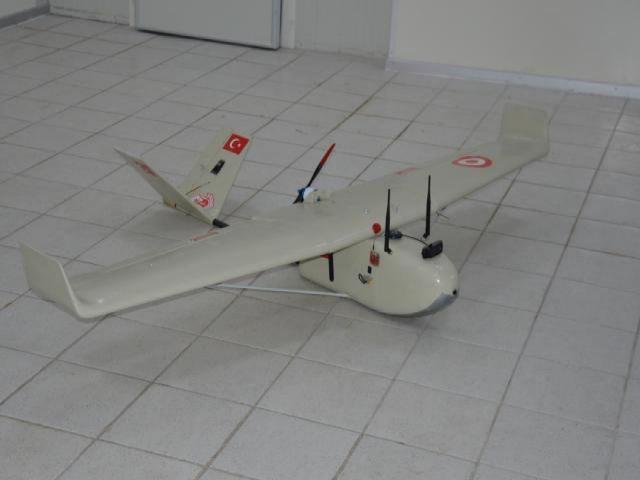iha: (24, 125, 546, 335)
